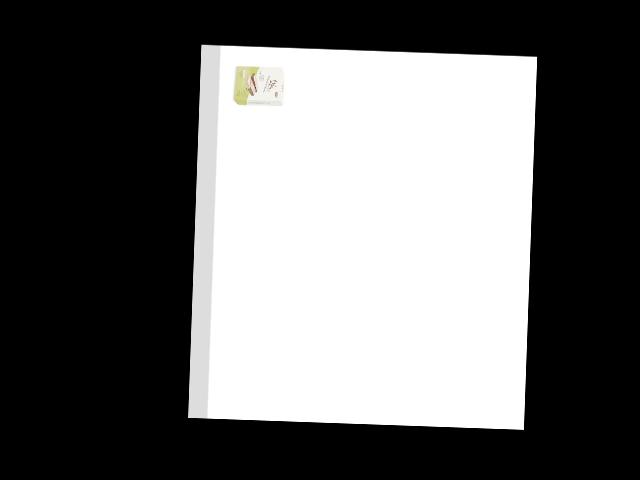chocolate: (231, 61, 285, 109)
